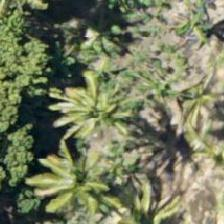coconut_tree: (50, 57, 140, 147), (31, 137, 121, 223), (78, 0, 168, 80), (152, 54, 223, 144), (98, 174, 188, 223)
